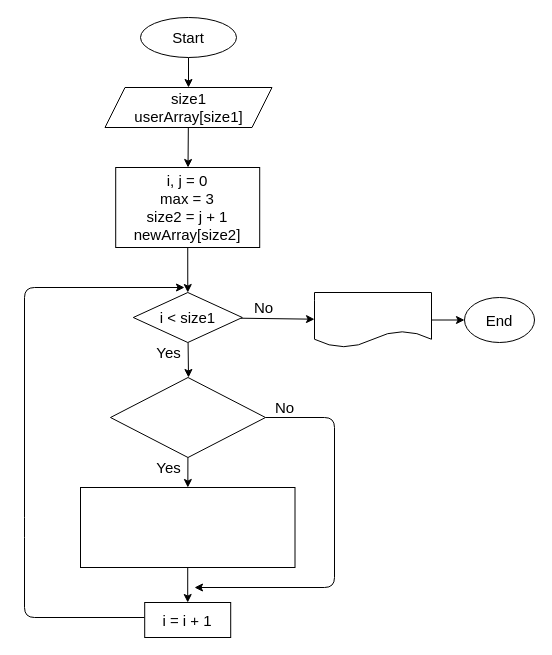
The diagram is 552 pixels wide and 655 high, and some of its shapes have lost their labels. The centre of each missing label's shape, as x and y in pixels:
newArray[j] = userArray[i] j = j + 1: pixel 187 527
print(userArray) print(newArray): pixel 373 320
userArray[i]<=max: pixel 188 417
